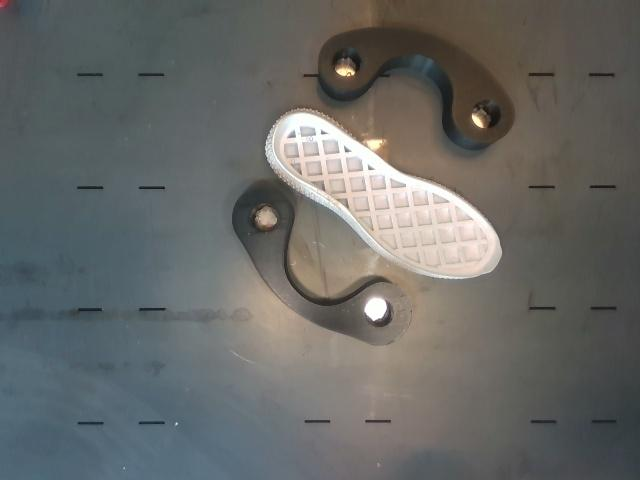shoes: (274, 113, 501, 278)
